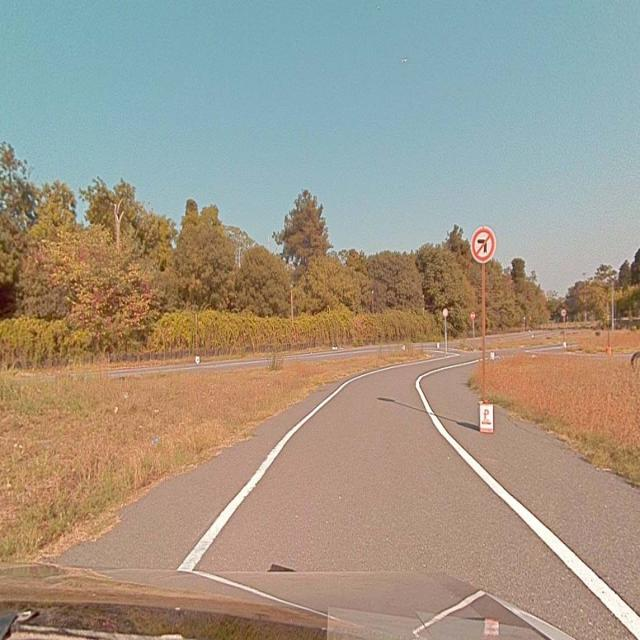soladonulmez: (472, 229, 494, 262)
